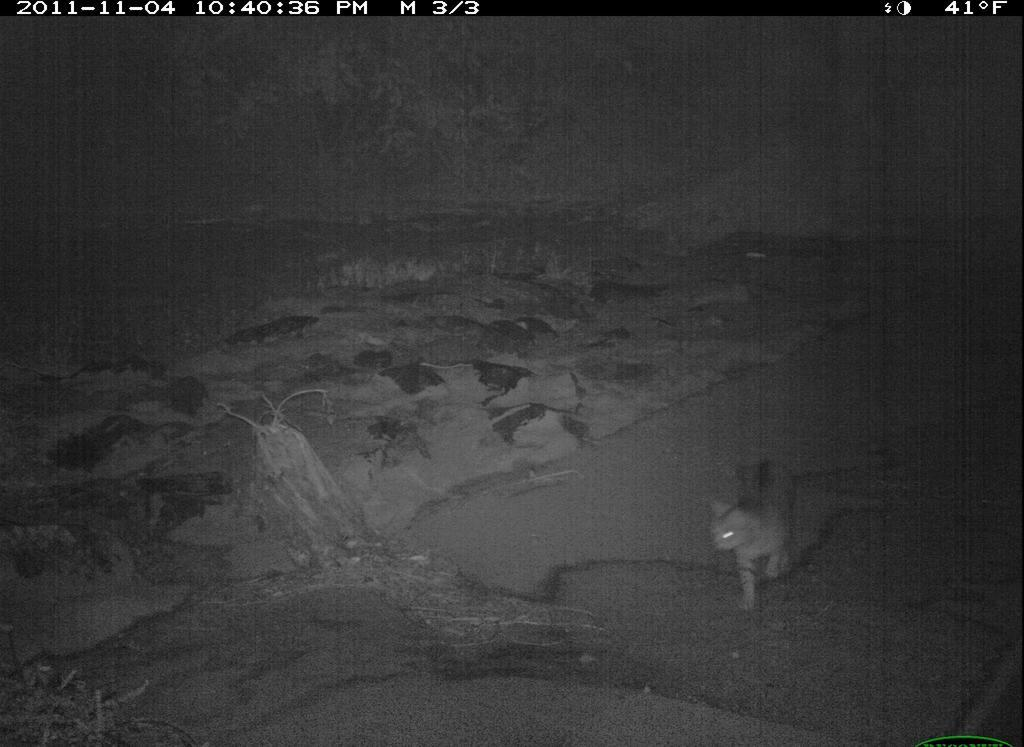cat: (701, 451, 808, 619)
